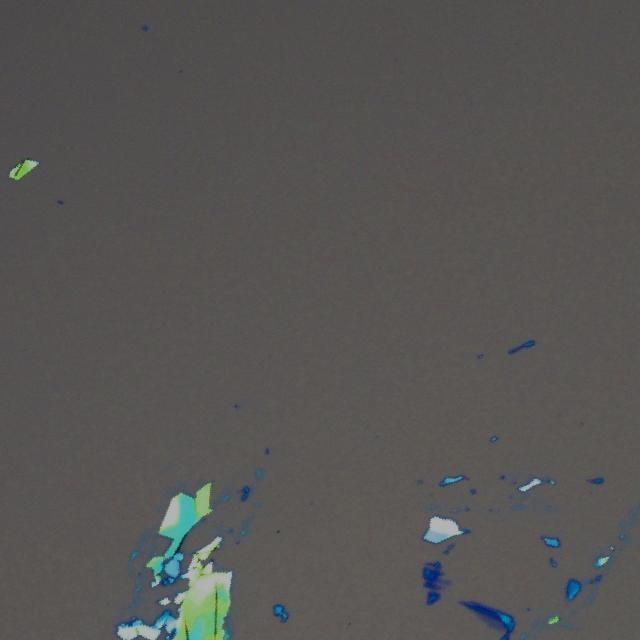monolayer-eWW4: (478, 614, 506, 633)
